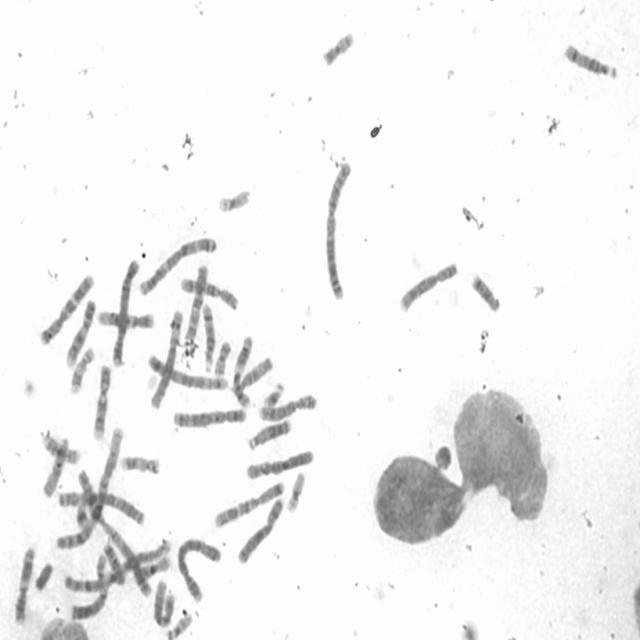A1: (54, 423, 125, 552), (59, 538, 173, 593)
A2: (57, 482, 154, 602), (322, 158, 352, 300)
A3: (138, 234, 219, 296), (55, 487, 147, 527)
B4: (110, 255, 141, 368), (175, 534, 222, 603)
B5: (145, 352, 228, 393), (171, 405, 247, 430)
C10: (178, 274, 240, 313), (184, 260, 209, 344)
C11: (12, 542, 36, 624), (230, 332, 255, 409)
C12: (94, 305, 155, 331), (150, 576, 177, 629)
C6: (148, 306, 185, 411), (243, 446, 315, 481)
C7: (37, 270, 96, 346), (211, 476, 286, 530)
C8: (397, 259, 459, 313), (257, 391, 319, 421)
C9: (63, 295, 98, 370), (90, 361, 113, 442)
D13: (246, 415, 293, 452), (65, 585, 109, 623)
D14: (561, 39, 619, 81), (199, 300, 216, 373)
D15: (39, 431, 69, 499), (236, 352, 275, 389)
E16: (132, 555, 172, 591), (40, 433, 79, 465)
E17: (67, 343, 96, 395), (118, 450, 162, 476)
E18: (469, 271, 501, 314), (103, 544, 125, 587)
F19: (284, 468, 307, 514), (216, 186, 252, 214)
F20: (320, 29, 356, 67), (213, 337, 232, 378)
G21: (260, 378, 286, 411), (73, 499, 91, 532)
G22: (165, 610, 193, 638), (96, 552, 108, 581)
X: (235, 494, 285, 565)
Y: (33, 559, 54, 593)
